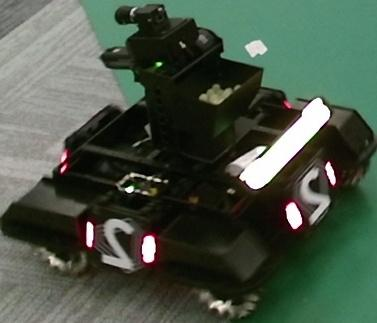armor_2: (285, 162, 337, 231), (84, 222, 157, 264)
back_2: (296, 159, 331, 225)
left_2: (93, 216, 145, 275)
light: (242, 97, 331, 190)
